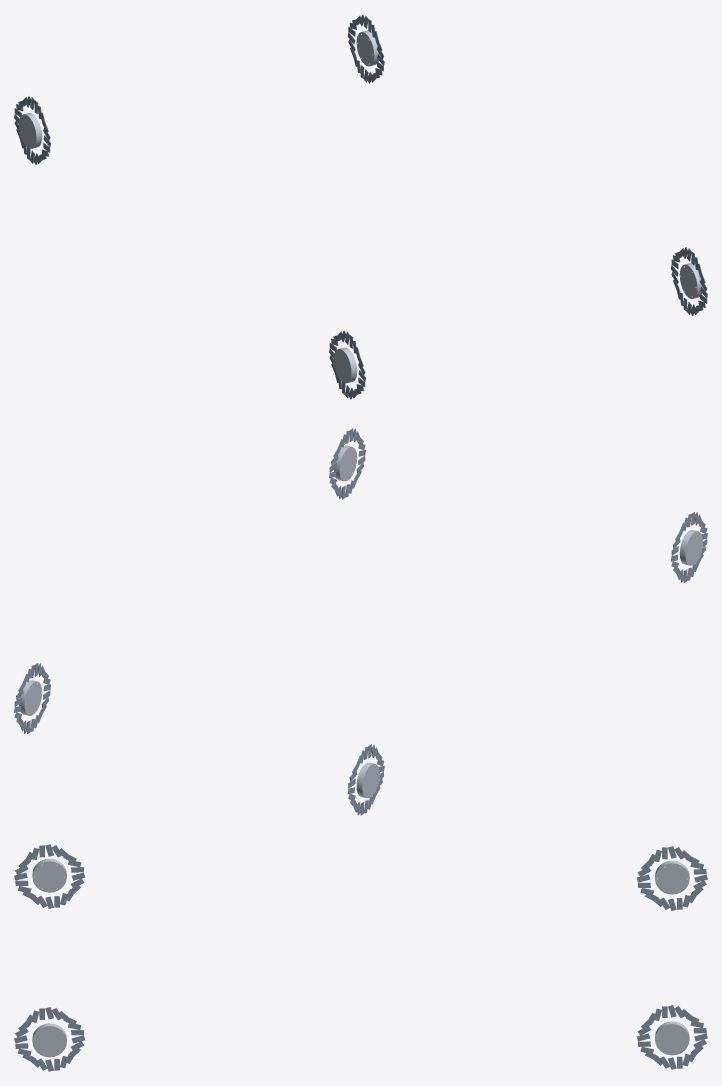
The model's file is rotor_internal_vanes.glb.
3 views of the same model, one above another, from view 1: azimuth 30°, elevation 25°; view 2: azimuth 150°, elevation 25°; view 3: azimuth 270°, elevation 25° (orthographic). The views are drawn at different scales.
Parts seen in each view (by area): view 1: Rotor_Vanes_Billet_Hats_Assembly; view 2: Rotor_Vanes_Billet_Hats_Assembly; view 3: Rotor_Vanes_Billet_Hats_Assembly.
Part boxes in pixels (bbox=[...]): Rotor_Vanes_Billet_Hats_Assembly: bbox=[14, 14, 707, 399]; Rotor_Vanes_Billet_Hats_Assembly: bbox=[14, 428, 707, 815]; Rotor_Vanes_Billet_Hats_Assembly: bbox=[14, 844, 707, 1071].
Bounding box in the file's own units: 1.72 × 0.3095 × 3.01.
